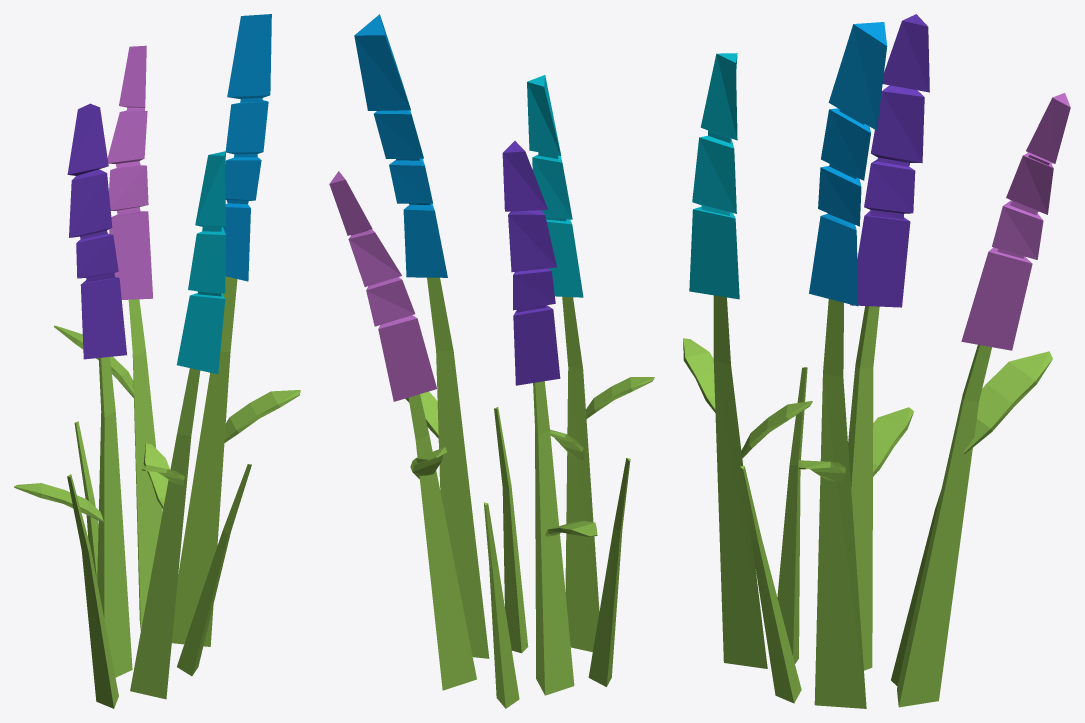
The model's file is plume.glb.
3 renders of one model, left to right at view 1: azimuth 30°, elevation 25°; view 2: azimuth 150°, elevation 25°; view 3: azimuth 270°, elevation 25°, orthographic. The views are drawn at different scales.
Parts seen in each view (by area): view 1: Node; view 2: Node; view 3: Node.
Boxes of the visible parts, x1,y1,x2,y2 form: Node: (14,14,300,708); Node: (329,14,654,708); Node: (683,14,1070,708).
Bounding box in the file's own units: 1.11 × 2.7 × 1.26.
